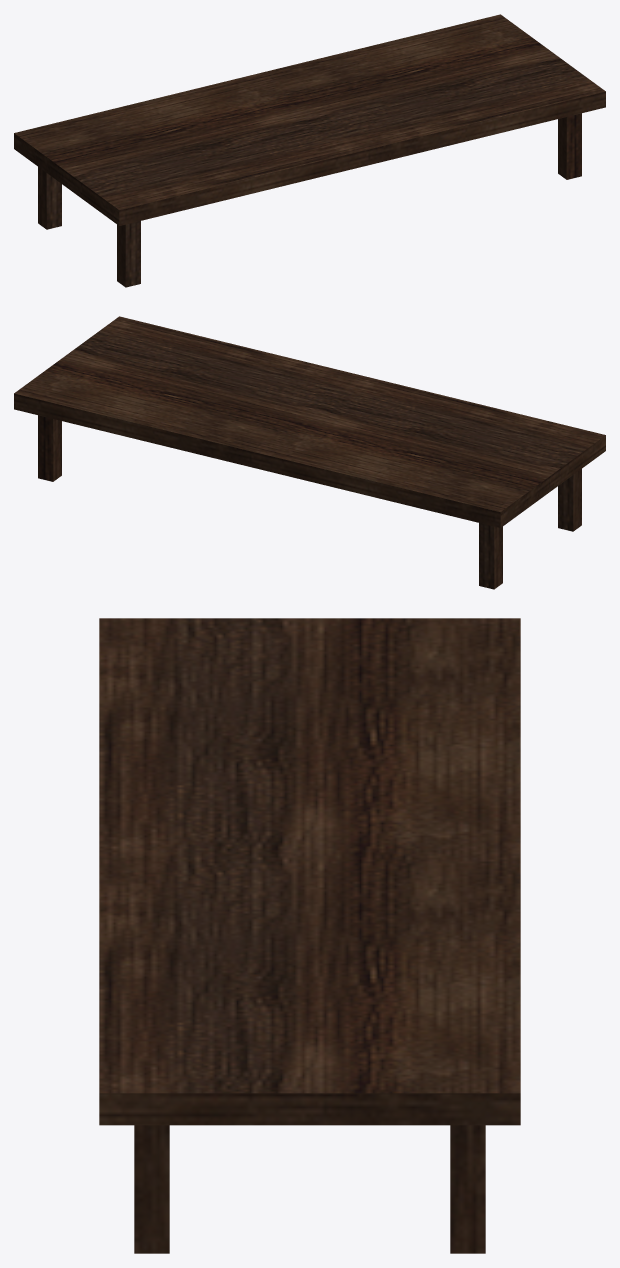
File: table1.obj
The picture shows the model from 3 angles, top to bottom: view 1: azimuth 30°, elevation 25°; view 2: azimuth 150°, elevation 25°; view 3: azimuth 270°, elevation 25°; orthographic projection. The views are drawn at different scales.
Visible parts, largest first — view 1: Brush5, Brush4, Brush1, Brush3; view 2: Brush5, Brush3, Brush2, Brush4; view 3: Brush5, Brush1, Brush2.
Boxes of the visible parts, x1=… form: Brush5: x1=14, y1=14, x2=605, y2=225; Brush4: x1=117, y1=221, x2=140, y2=287; Brush1: x1=558, y1=113, x2=581, y2=179; Brush3: x1=38, y1=167, x2=61, y2=229; Brush5: x1=14, y1=316, x2=605, y2=527; Brush3: x1=479, y1=523, x2=502, y2=589; Brush2: x1=38, y1=415, x2=61, y2=481; Brush4: x1=558, y1=469, x2=581, y2=531; Brush5: x1=99, y1=618, x2=520, y2=1125; Brush1: x1=134, y1=1125, x2=169, y2=1253; Brush2: x1=450, y1=1125, x2=485, y2=1253.
Bounding box in the file's own units: 256 × 44 × 96.
